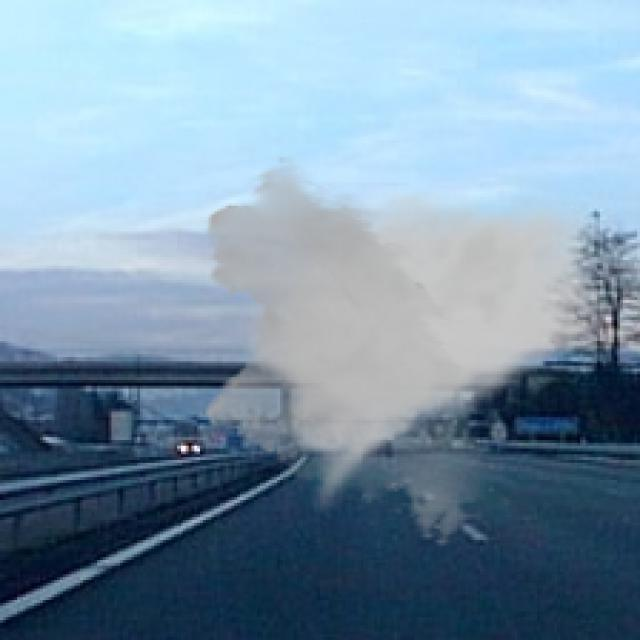Smoke: (194, 154, 617, 549)
